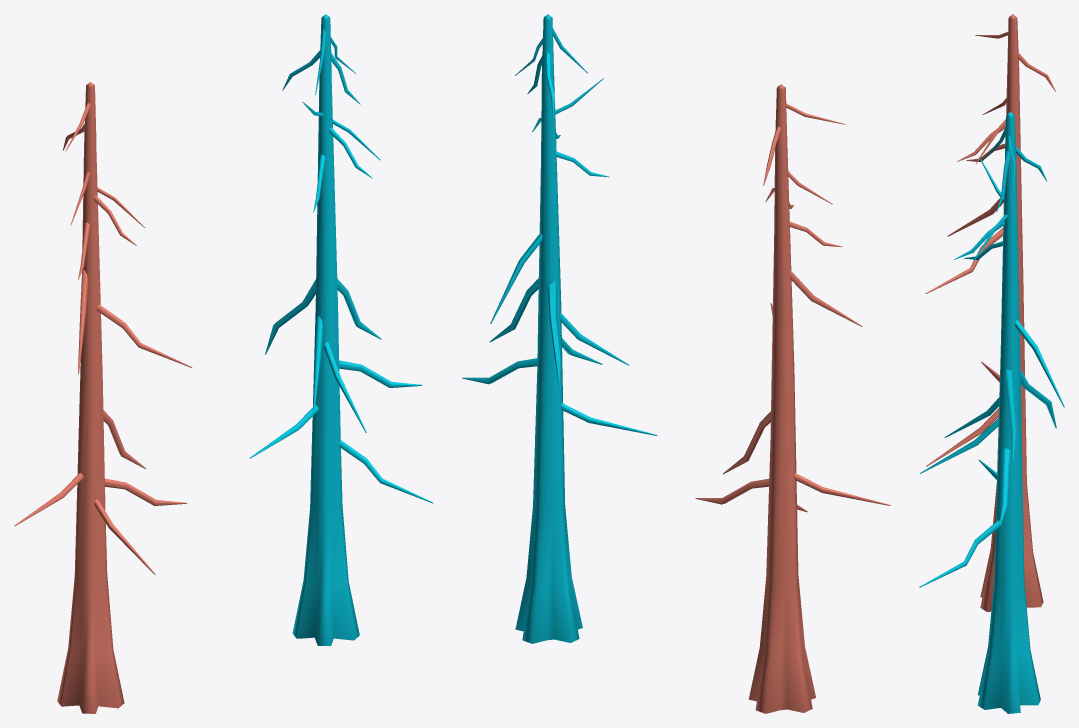
File: DeadTrees.fbx
3 views of the same model, side by side, from view 1: azimuth 30°, elevation 25°; view 2: azimuth 150°, elevation 25°; view 3: azimuth 270°, elevation 25° (orthographic). The views are drawn at different scales.
Parts seen in each view (by area): view 1: pCube75, pCube76; view 2: pCube75, pCube76; view 3: pCube75, pCube76.
Part boxes in pixels (left/top/right/bottom): pCube75: left=249, top=14, right=433, bottom=646; pCube76: left=14, top=82, right=192, bottom=713; pCube75: left=462, top=14, right=657, bottom=643; pCube76: left=695, top=84, right=890, bottom=713; pCube75: left=919, top=112, right=1064, bottom=713; pCube76: left=925, top=14, right=1055, bottom=612.
Bounding box in the file's own units: 7.98 × 11.46 × 2.52.
